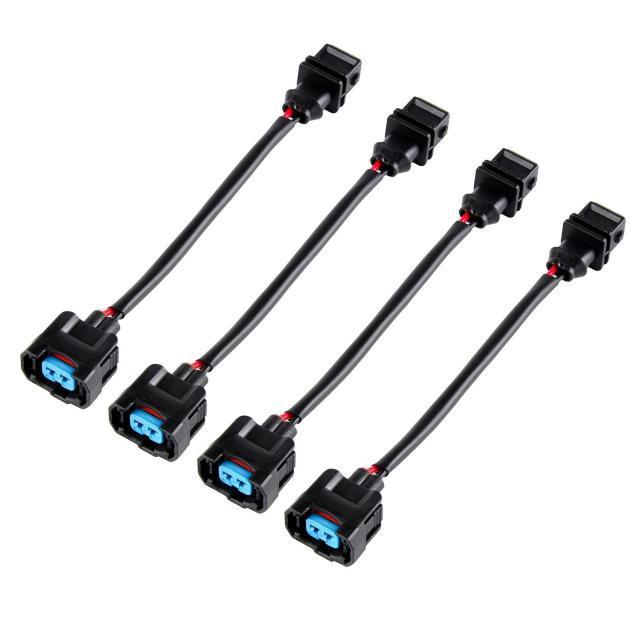cable: (360, 274, 559, 479), (192, 167, 383, 372), (100, 116, 293, 318), (280, 220, 471, 424)
connector: (285, 468, 383, 565), (198, 415, 295, 512), (21, 311, 118, 407), (109, 364, 206, 460), (370, 97, 448, 176), (547, 202, 624, 281), (283, 44, 360, 123), (461, 149, 536, 227), (381, 97, 449, 166)
